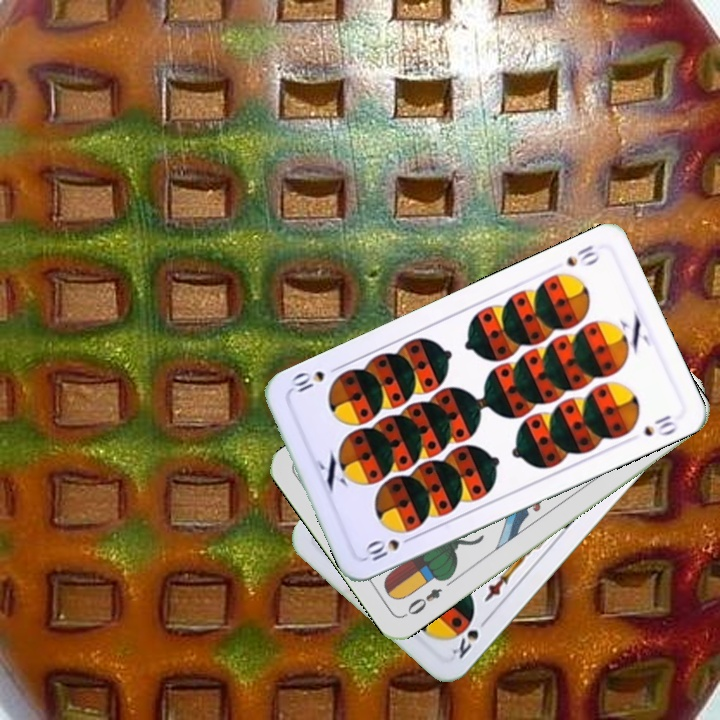EO: (400, 584, 445, 619)
S10: (361, 531, 418, 564), (562, 241, 603, 269)
SK: (447, 612, 492, 662)
